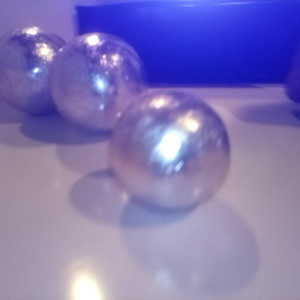alive_ball: (110, 91, 230, 210), (48, 32, 146, 135), (1, 27, 76, 115)
dead_ball: (285, 47, 300, 104)
